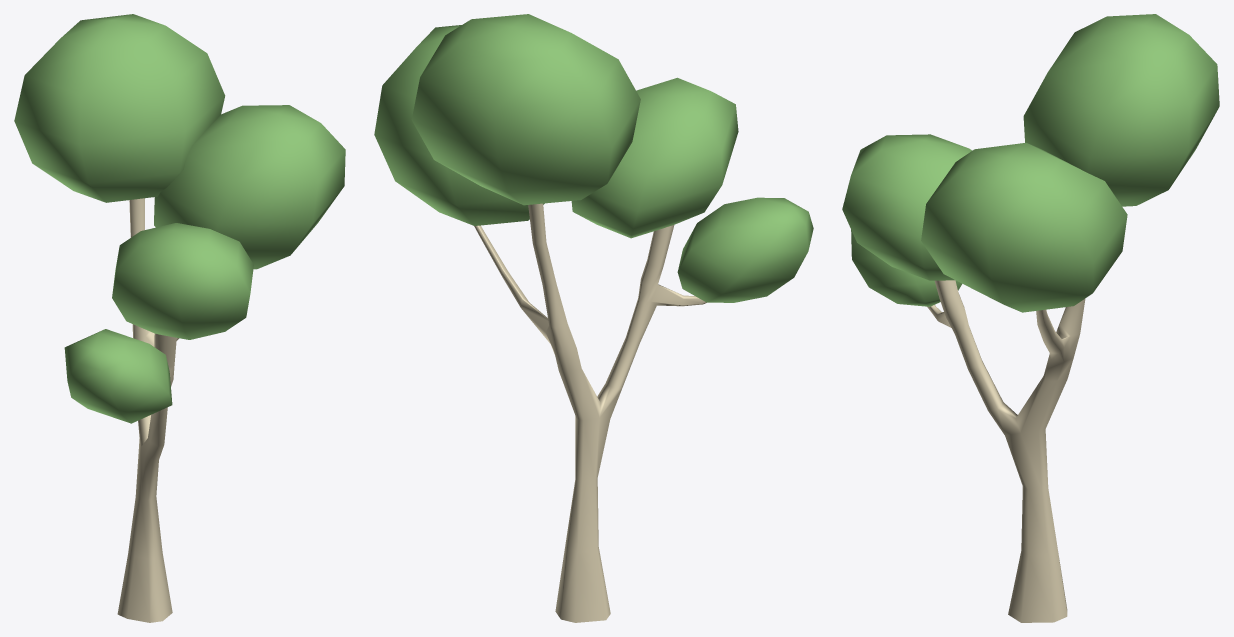
The model's file is Birch_tree.fbx.
The picture shows the model from 3 angles, left to right: view 1: azimuth 30°, elevation 25°; view 2: azimuth 150°, elevation 25°; view 3: azimuth 270°, elevation 25°; orthographic projection. The views are drawn at different scales.
Visible parts, largest first — view 1: polySurface22; view 2: polySurface22; view 3: polySurface22.
Part boxes in pixels (x1,y1,x2,y2): polySurface22: (14,14,345,622); polySurface22: (374,14,813,622); polySurface22: (842,14,1219,622).
Size of the model in its own units: 4.36 by 7.28 by 4.19.
